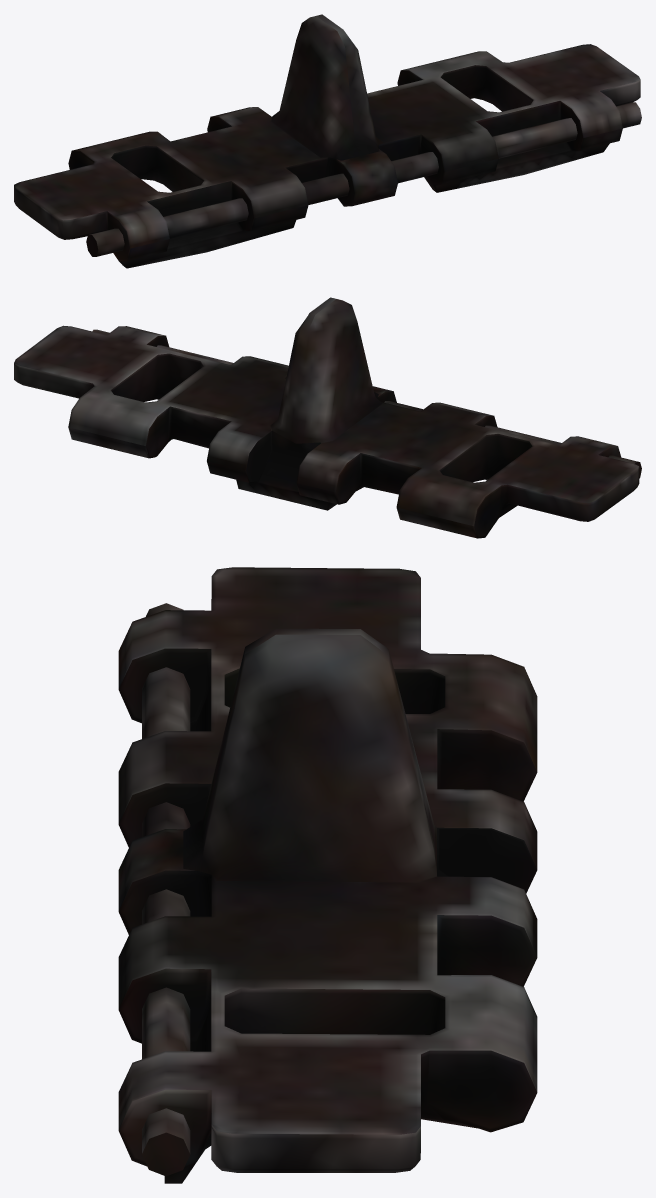
Rendered from single_track.gltf.
3 views of the same model, one above another, from view 1: azimuth 30°, elevation 25°; view 2: azimuth 150°, elevation 25°; view 3: azimuth 270°, elevation 25° (orthographic). The views are drawn at different scales.
Parts seen in each view (by area): view 1: tracks; view 2: tracks; view 3: tracks.
Boxes of the visible parts, x1,y1,x2,y2 form: tracks: (14, 14, 641, 268); tracks: (14, 297, 641, 538); tracks: (118, 567, 537, 1183).
Size of the model in its own units: 0.1255 by 0.0334 by 0.0392.
1 material, 1 textured.
